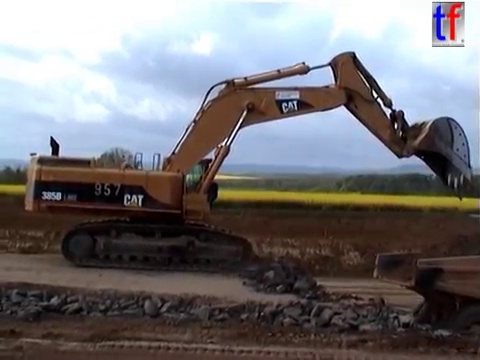excavator: (21, 48, 474, 274)
truck: (370, 248, 480, 360)
